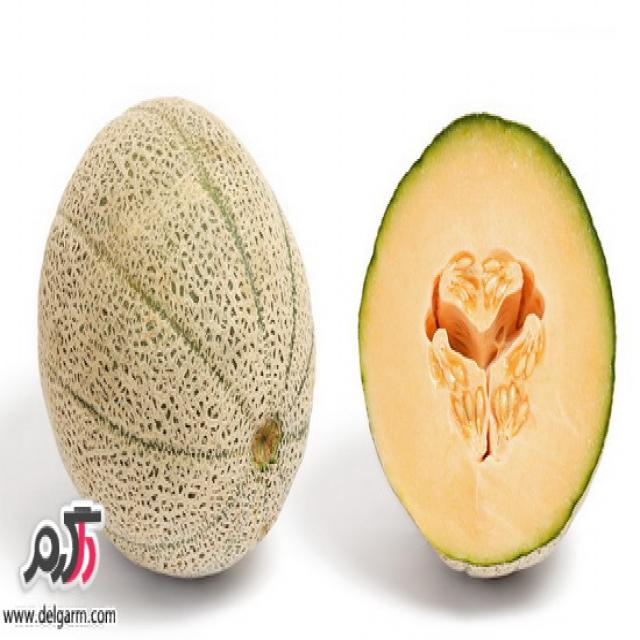melon: (38, 92, 316, 582), (355, 108, 618, 586)
